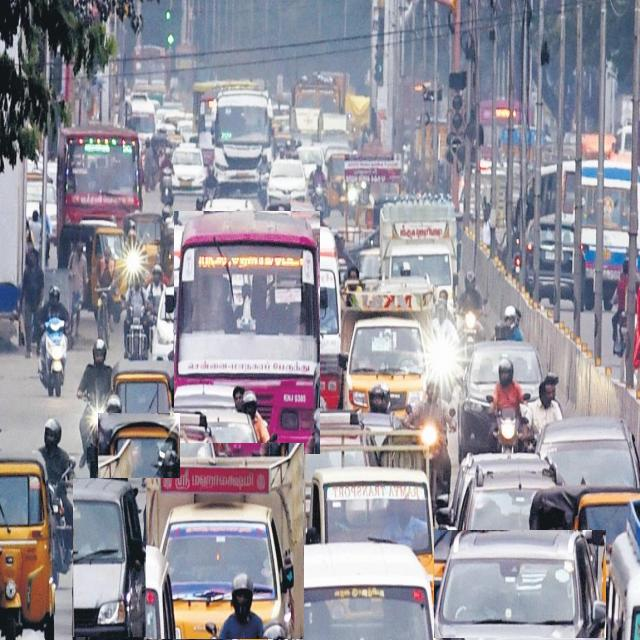autorickshaw: (0, 451, 55, 639), (98, 414, 180, 478), (112, 359, 180, 416)
bus: (174, 211, 320, 454), (58, 127, 142, 237)
car: (434, 531, 606, 638), (73, 478, 145, 637), (458, 342, 541, 456)
truck: (145, 443, 304, 639), (344, 277, 435, 415)
